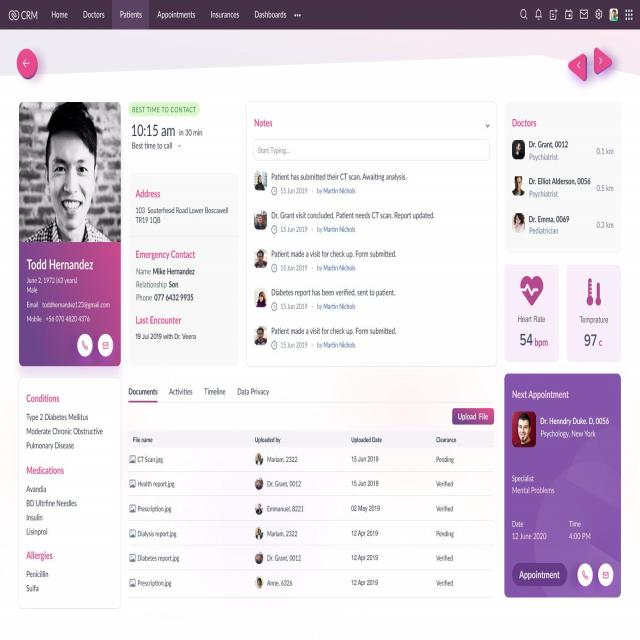button: (512, 564, 568, 586), (452, 407, 494, 425), (75, 332, 93, 358), (97, 333, 115, 358), (576, 562, 594, 587), (598, 561, 614, 587)
input: (253, 138, 490, 161)
